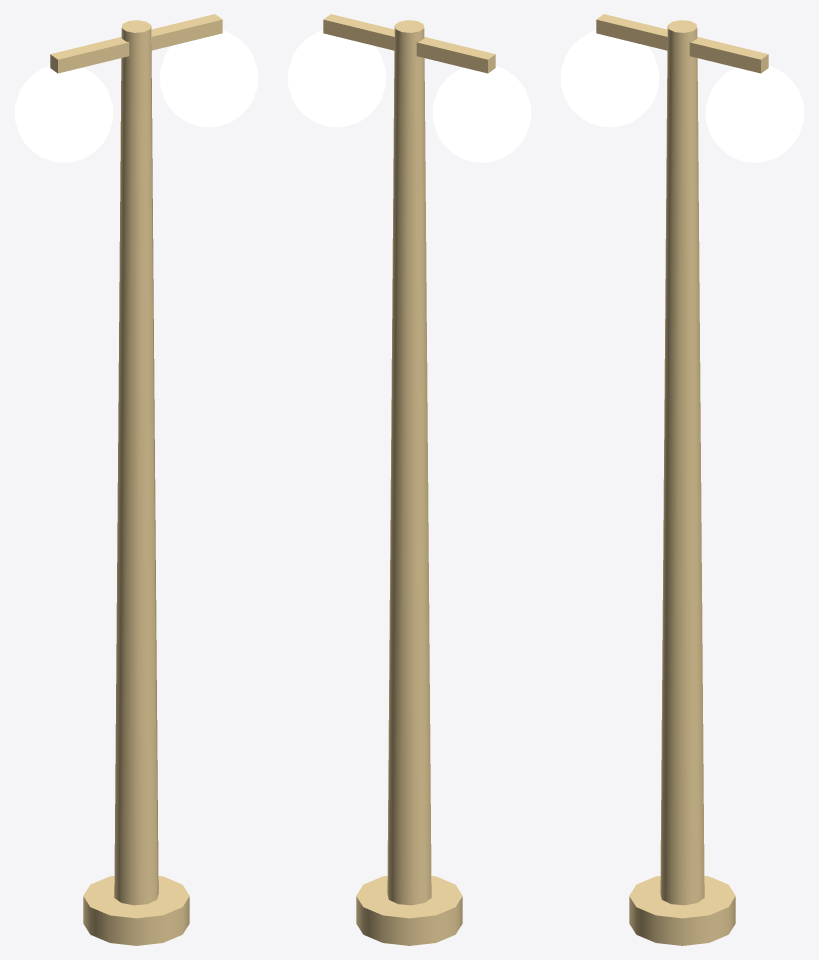
Rendered from lamp_post.glb.
3 views of the same model, side by side, from view 1: azimuth 30°, elevation 25°; view 2: azimuth 150°, elevation 25°; view 3: azimuth 330°, elevation 25° (orthographic).
Parts seen in each view (by area): view 1: post, lamp; view 2: post, lamp; view 3: post, lamp.
Part boxes in pixels (left/top/right/bottom): post: left=50, top=14, right=222, bottom=945; lamp: left=14, top=30, right=258, bottom=162; post: left=323, top=14, right=495, bottom=945; lamp: left=287, top=30, right=531, bottom=162; post: left=596, top=14, right=768, bottom=945; lamp: left=560, top=30, right=804, bottom=162.
Size of the model in its own units: 0.7 by 2.6 by 0.28.
